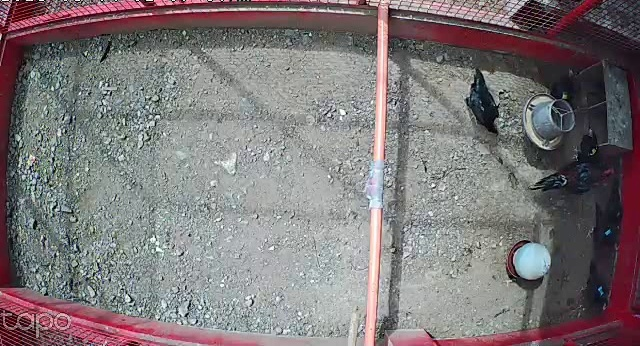Chicken: (460, 65, 501, 137), (583, 201, 623, 256), (577, 259, 612, 313), (571, 121, 603, 172), (547, 66, 584, 103)
Rooster: (530, 156, 619, 199)
Saddle_Color_Blue: (605, 228, 611, 235)
